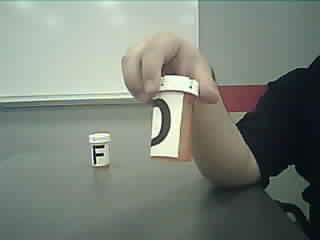Bottle D: (145, 71, 203, 167)
Bottle F: (84, 129, 120, 171)
